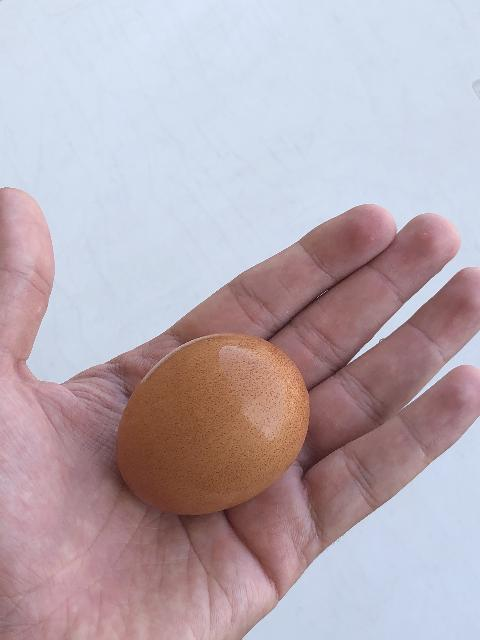Sano: (114, 331, 311, 516)
